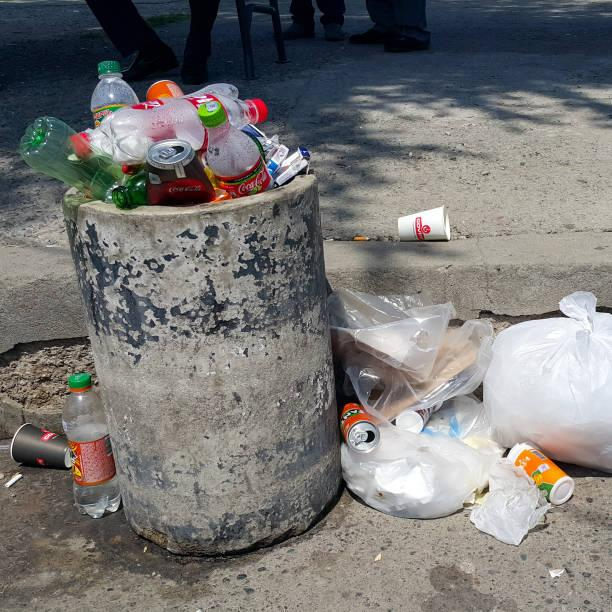trash: (301, 262, 612, 562), (21, 33, 330, 209), (52, 361, 126, 534), (391, 194, 464, 257), (13, 414, 80, 481)
trash_can_overflow: (16, 36, 587, 559)
